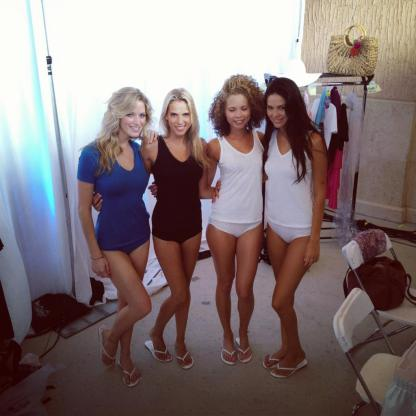face: (123, 101, 146, 137), (169, 102, 193, 136), (267, 95, 290, 129), (229, 97, 252, 130)
